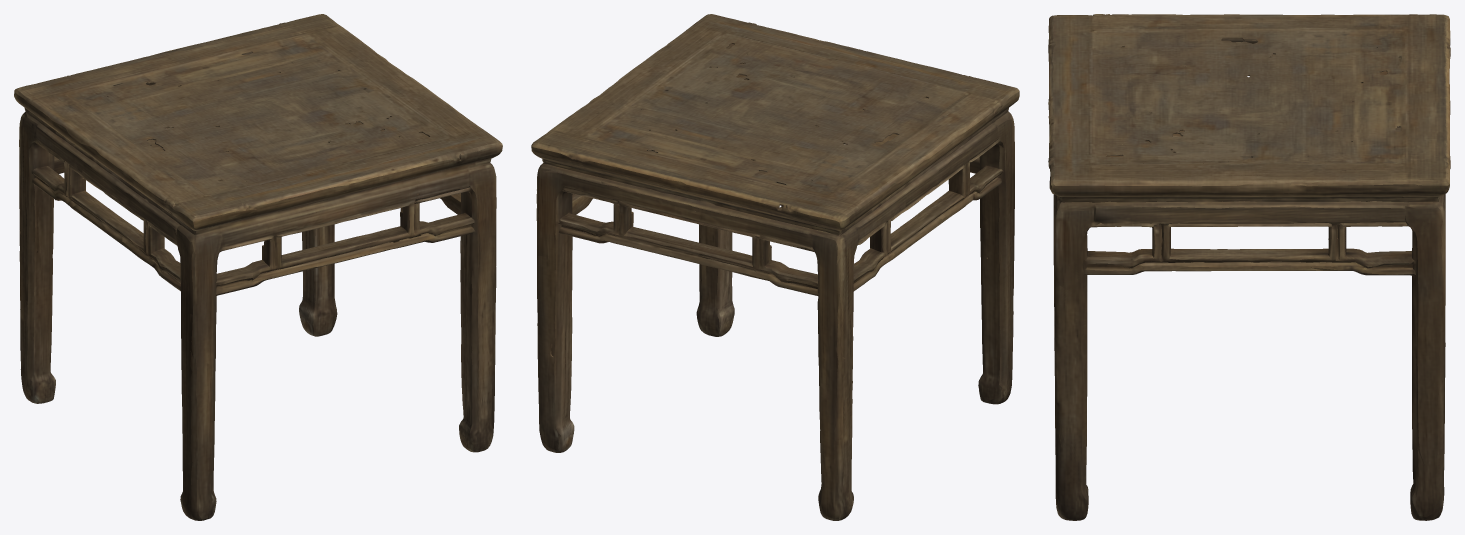
Rendered from table.glb.
3 renders of one model, left to right at view 1: azimuth 30°, elevation 25°; view 2: azimuth 150°, elevation 25°; view 3: azimuth 270°, elevation 25°, orthographic. The views are drawn at different scales.
Parts seen in each view (by area): view 1: world; view 2: world; view 3: world.
Part boxes in pixels (bbox=[...]): world: bbox=[14, 14, 502, 520]; world: bbox=[531, 14, 1019, 520]; world: bbox=[1048, 14, 1450, 520].
Bounding box in the file's own units: 0.9 × 0.8512 × 0.8992.
1 material, 1 textured.
